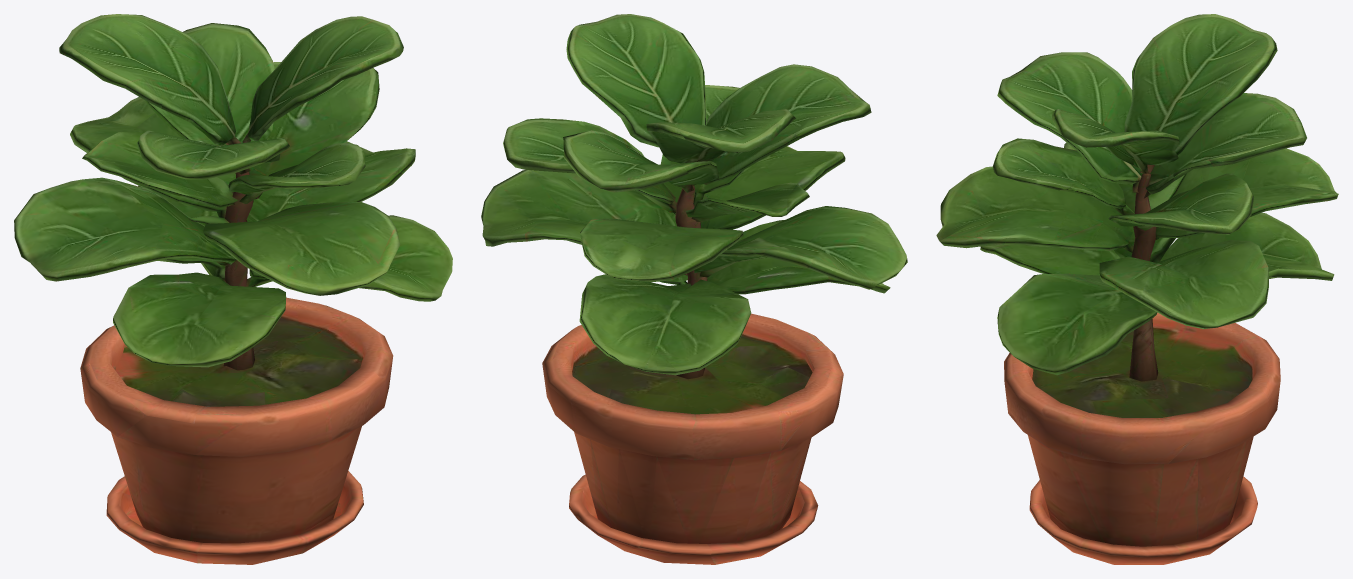
Rendered from plant.glb.
3 renders of one model, left to right at view 1: azimuth 30°, elevation 25°; view 2: azimuth 150°, elevation 25°; view 3: azimuth 270°, elevation 25°, orthographic. The views are drawn at different scales.
Parts seen in each view (by area): view 1: plant; view 2: plant; view 3: plant.
Part boxes in pixels (x1,y1,x2,y2): plant: (14,14,452,564); plant: (481,14,907,564); plant: (936,14,1338,564).
Size of the model in its own units: 0.7534 by 0.8569 by 0.6918.
1 material, 1 textured.
